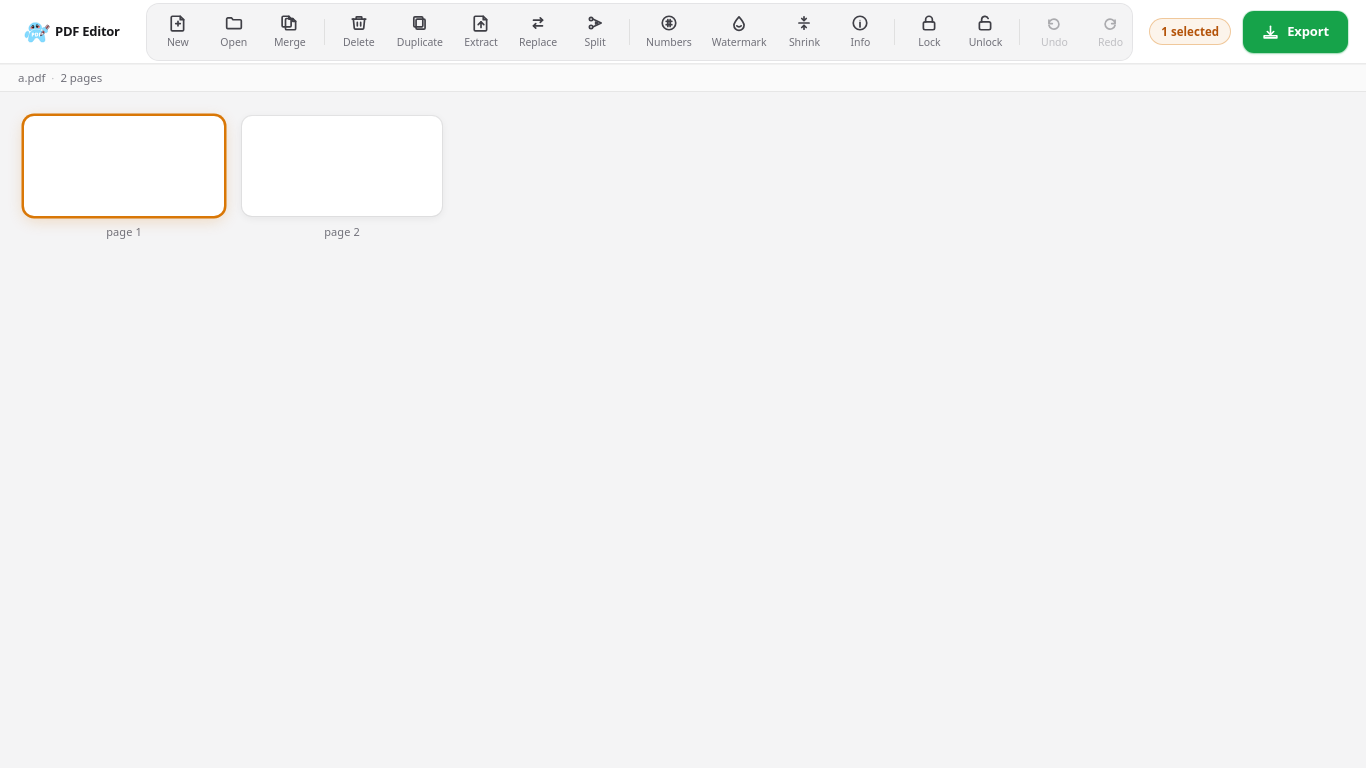
it: clicking the brand/logo returns to the landing without crashing
Check: the header is shown, box [0,0,1365,64]
Click the button with aria-label "Back to start".
click(74, 32)  # box [18,14,130,48]
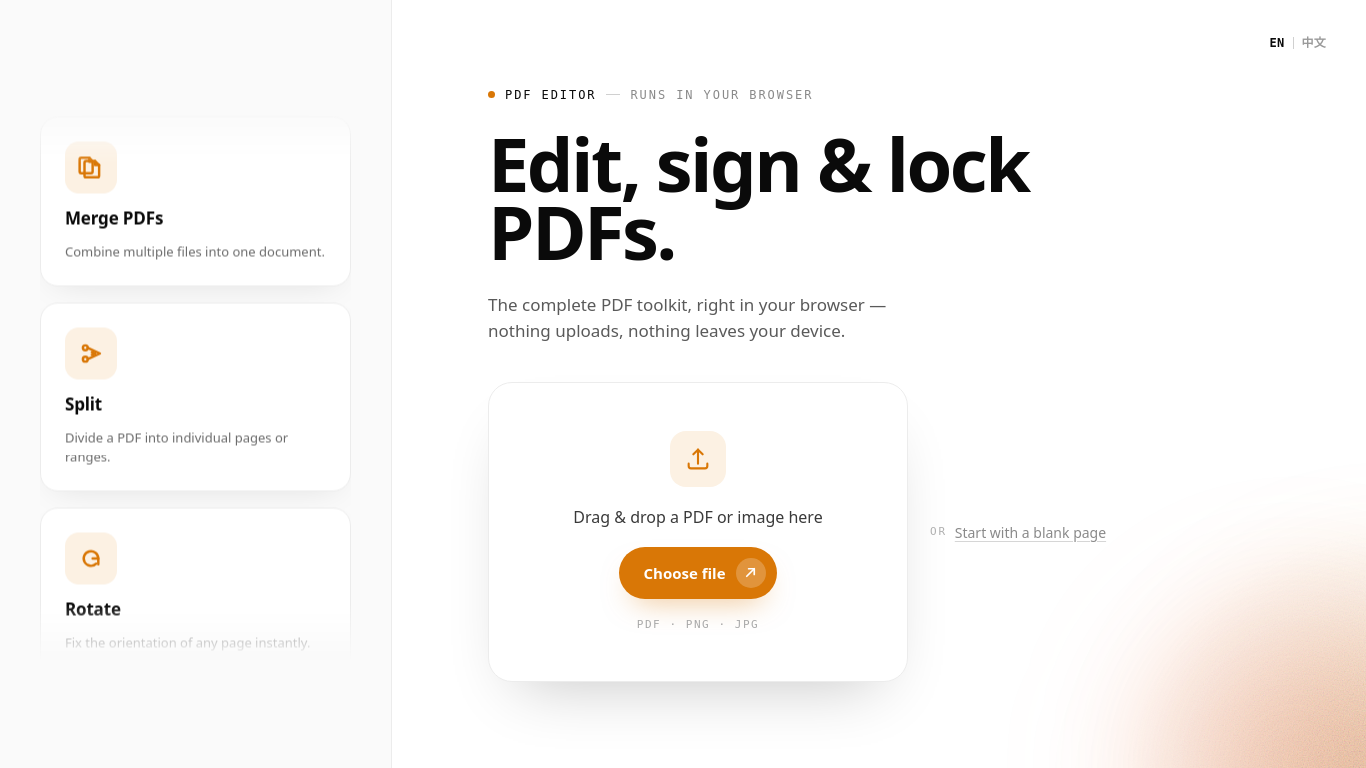
Check: the element named "PDF drop zone" is shown, box [488,382,908,682]
